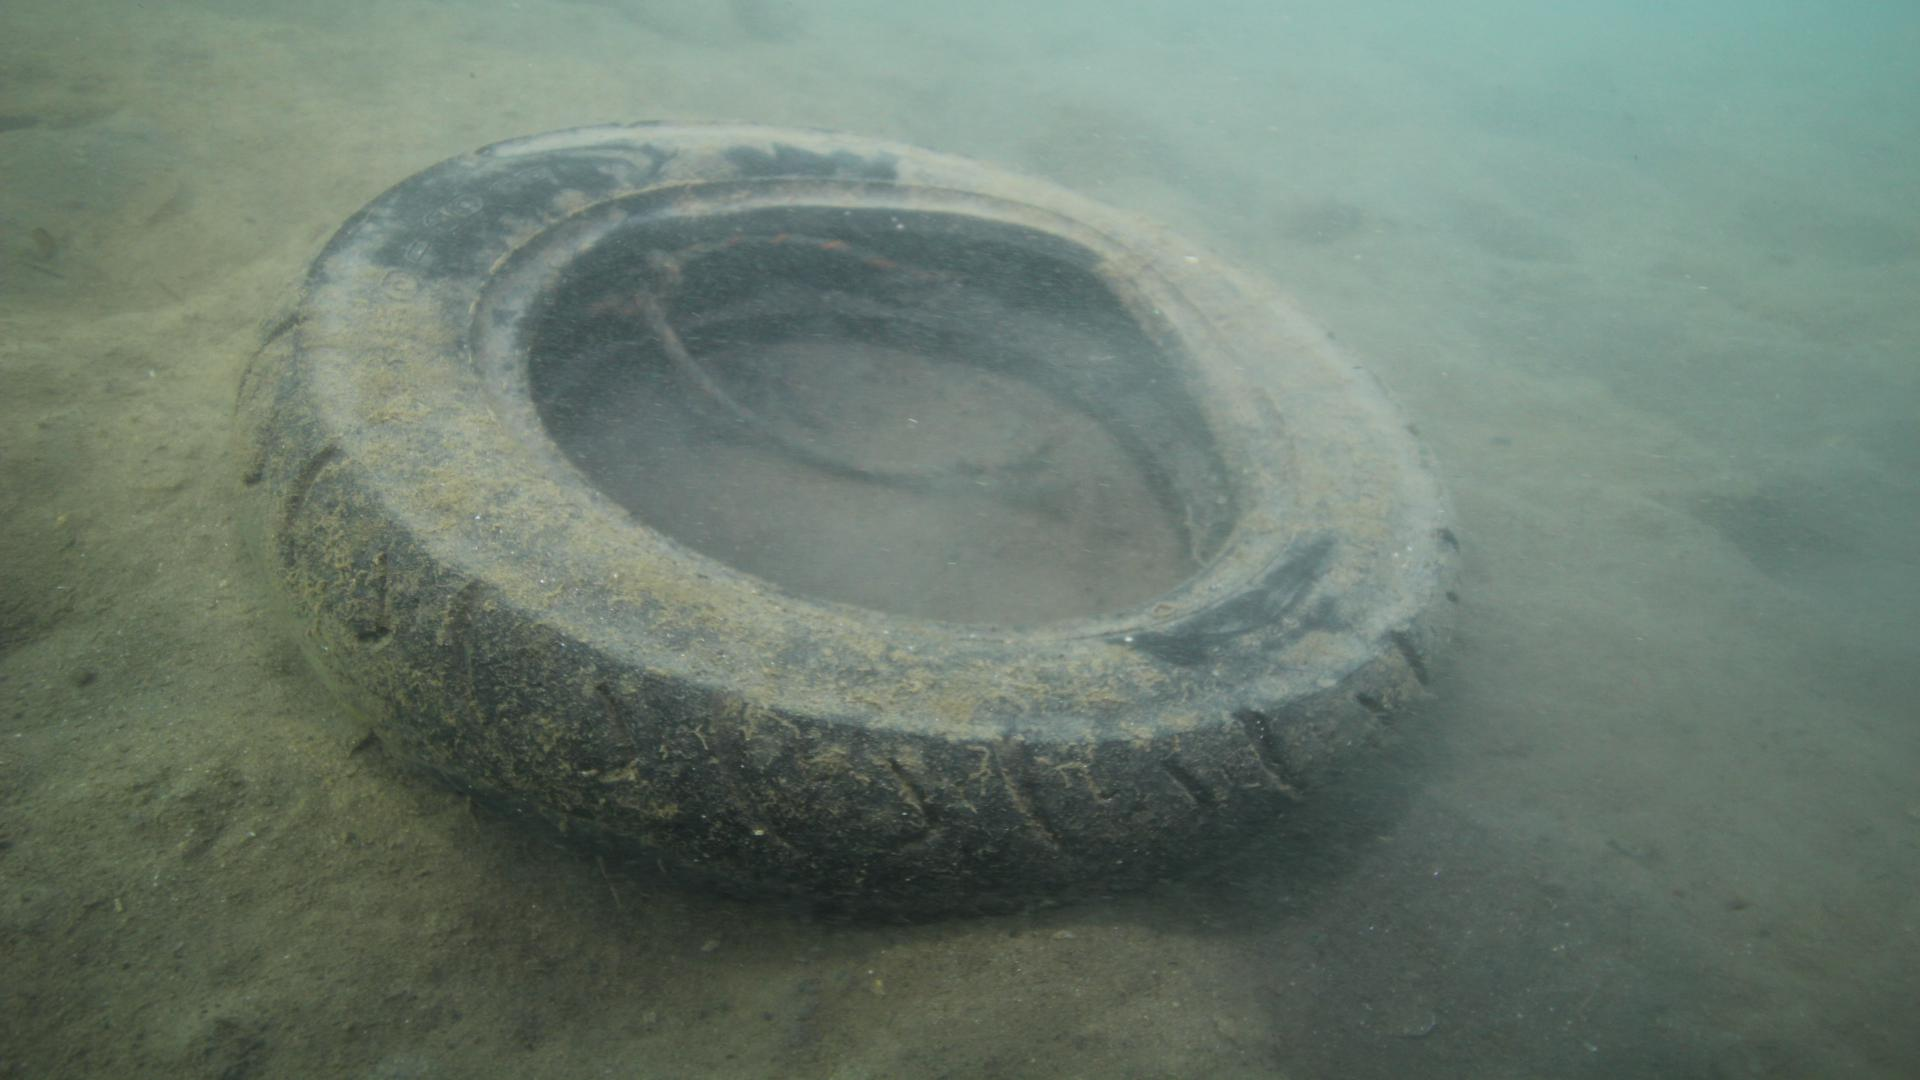rope: (628, 243, 953, 491)
tire: (227, 115, 1464, 916)
